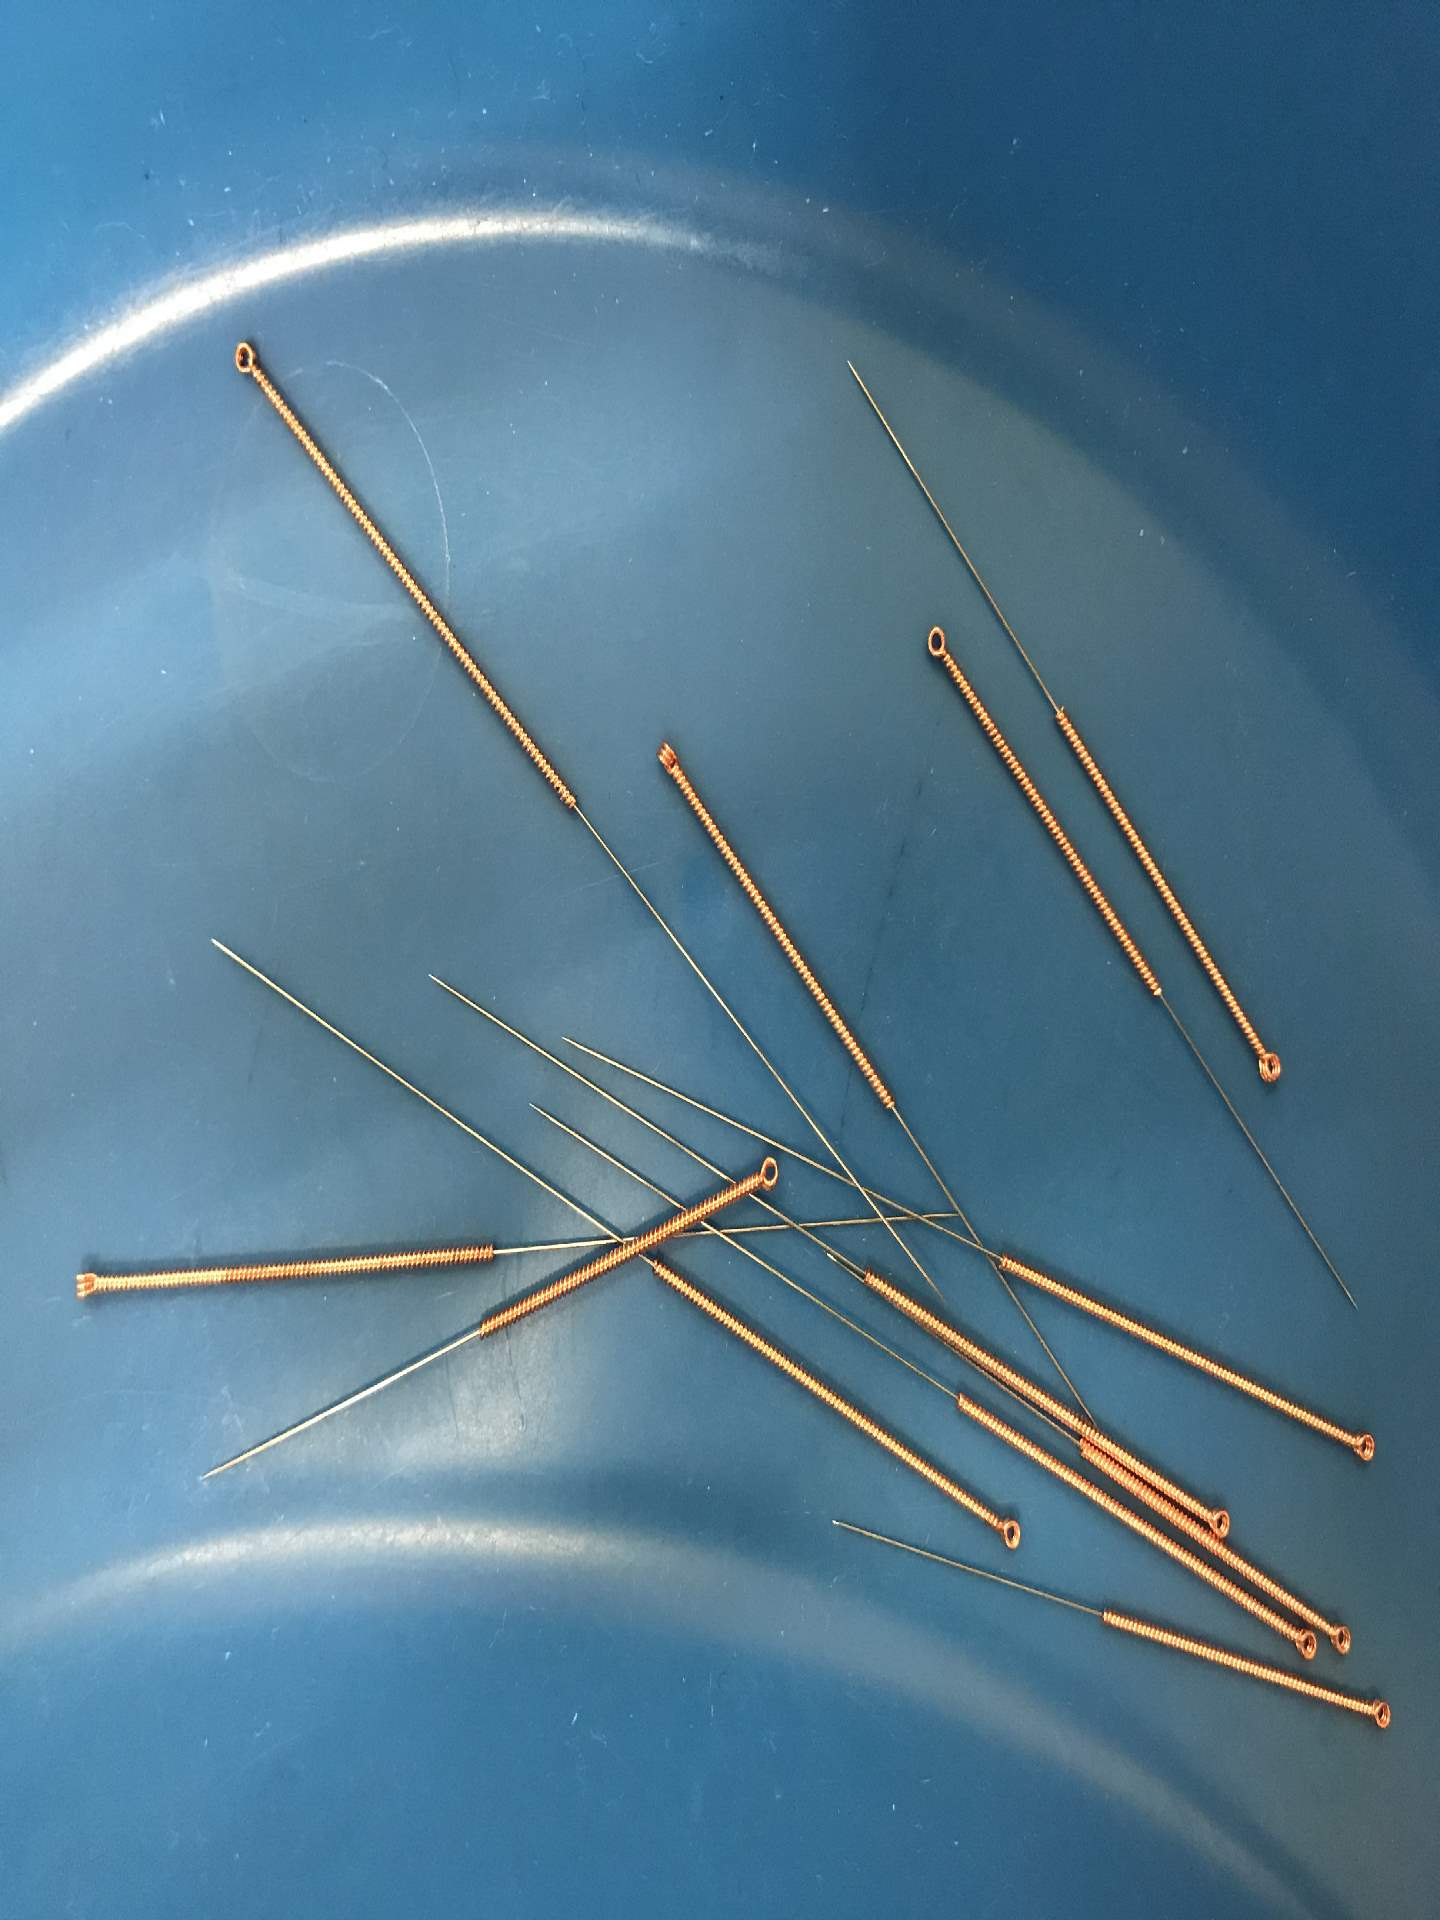needle: (982, 1506, 1036, 1562), (57, 1259, 113, 1311), (219, 330, 268, 387), (1333, 1421, 1386, 1473), (1245, 1036, 1290, 1095), (641, 729, 688, 785), (912, 617, 959, 671), (744, 1147, 790, 1199), (1357, 1687, 1398, 1740), (1280, 1624, 1321, 1674), (1319, 1613, 1358, 1665), (1199, 1494, 1234, 1544)
